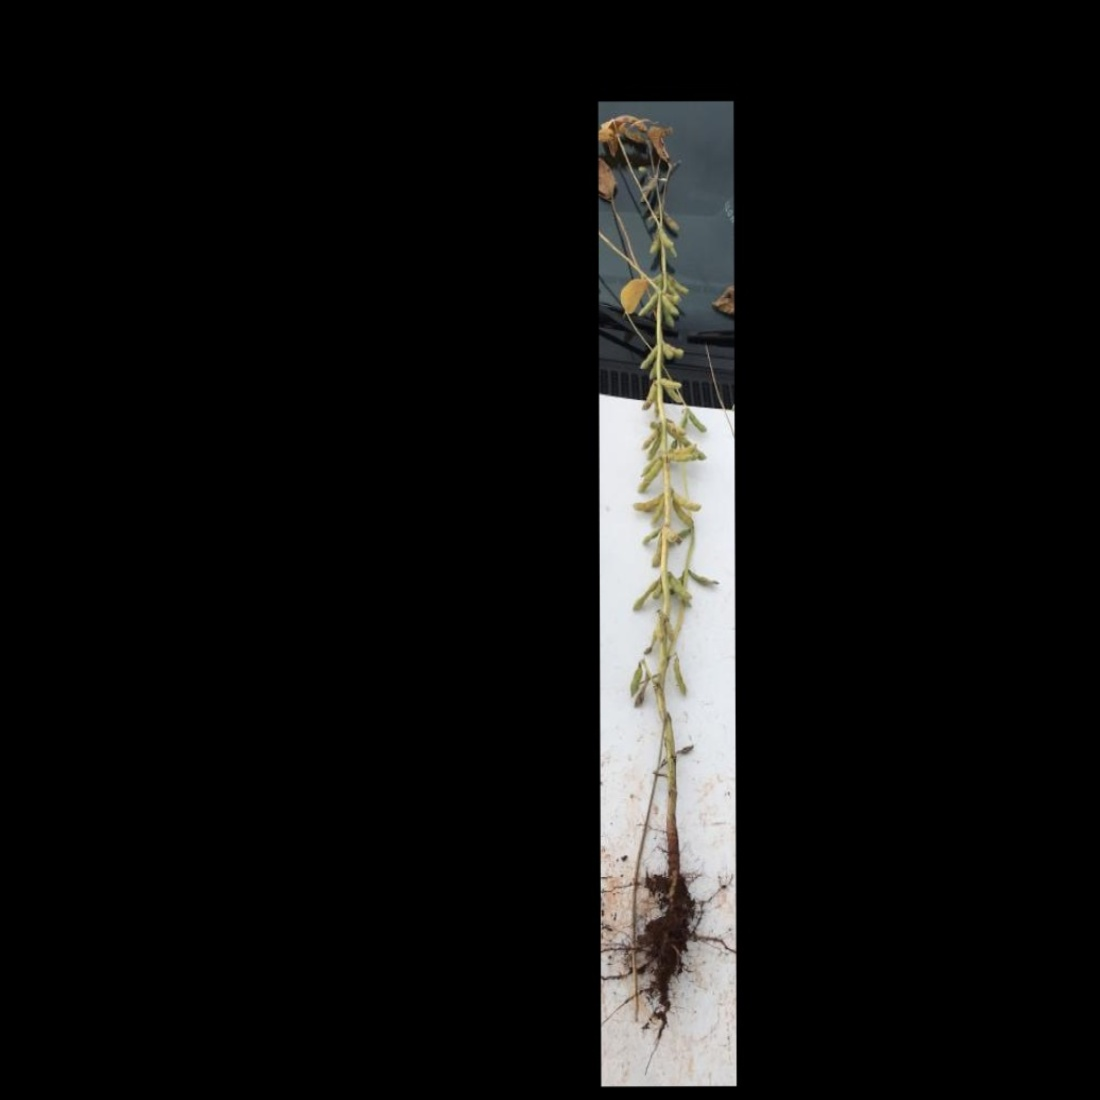pod: (667, 651, 691, 700), (669, 500, 697, 530), (618, 665, 643, 698), (687, 567, 721, 590), (634, 292, 660, 320), (637, 381, 658, 412), (688, 408, 710, 434), (638, 345, 659, 371), (662, 207, 682, 232), (648, 539, 663, 569), (639, 528, 662, 544), (652, 499, 665, 525), (659, 376, 683, 389)
soy: (606, 129, 734, 1039)
